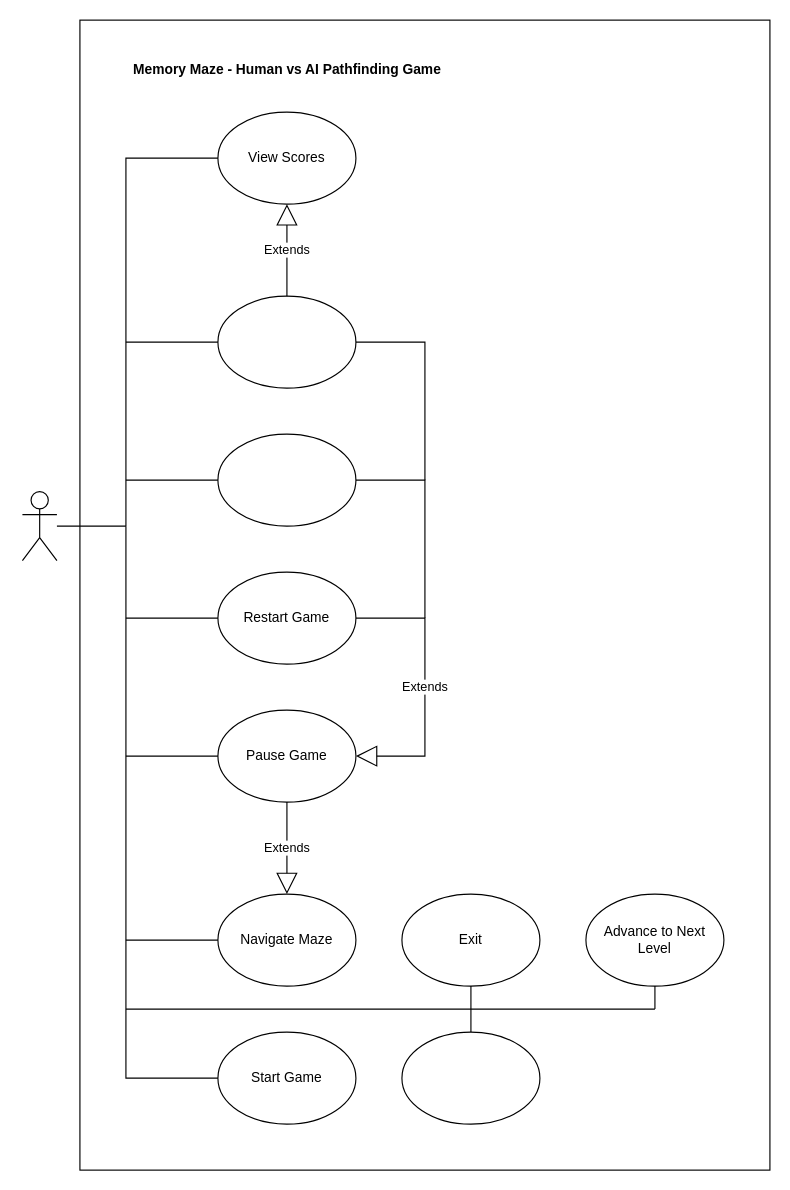
The diagram is 790 pixels wide and 1190 high, and some of its shapes have lost their labels. Each missing label, with the centre of its shape:
Player: (x=39, y=525)
Quit: (x=286, y=341)
Resume: (x=286, y=479)
Select Difficulty: (x=470, y=1077)
